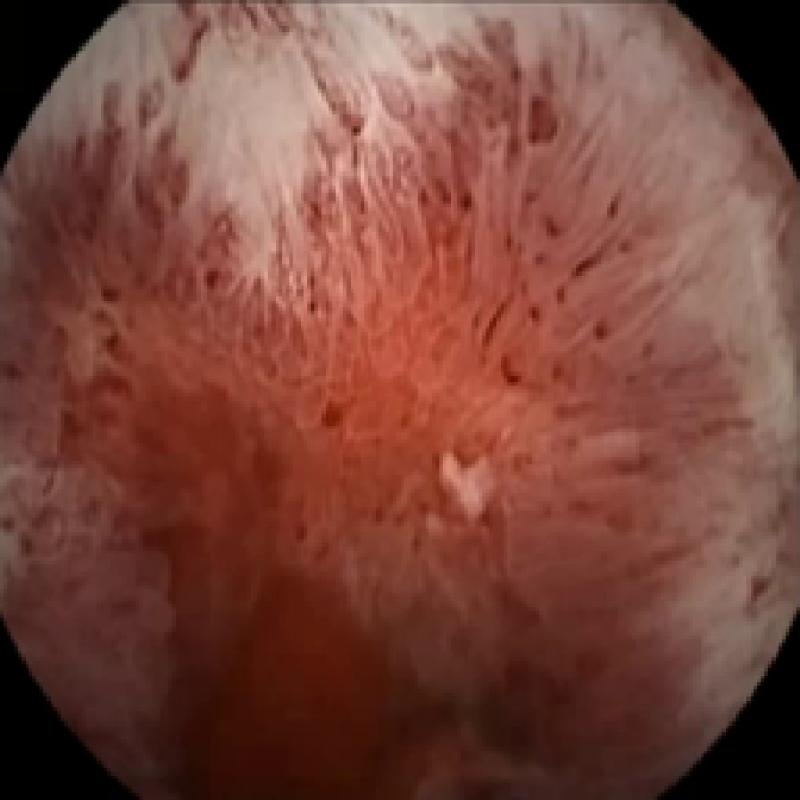bleeding: (71, 175, 700, 800)
